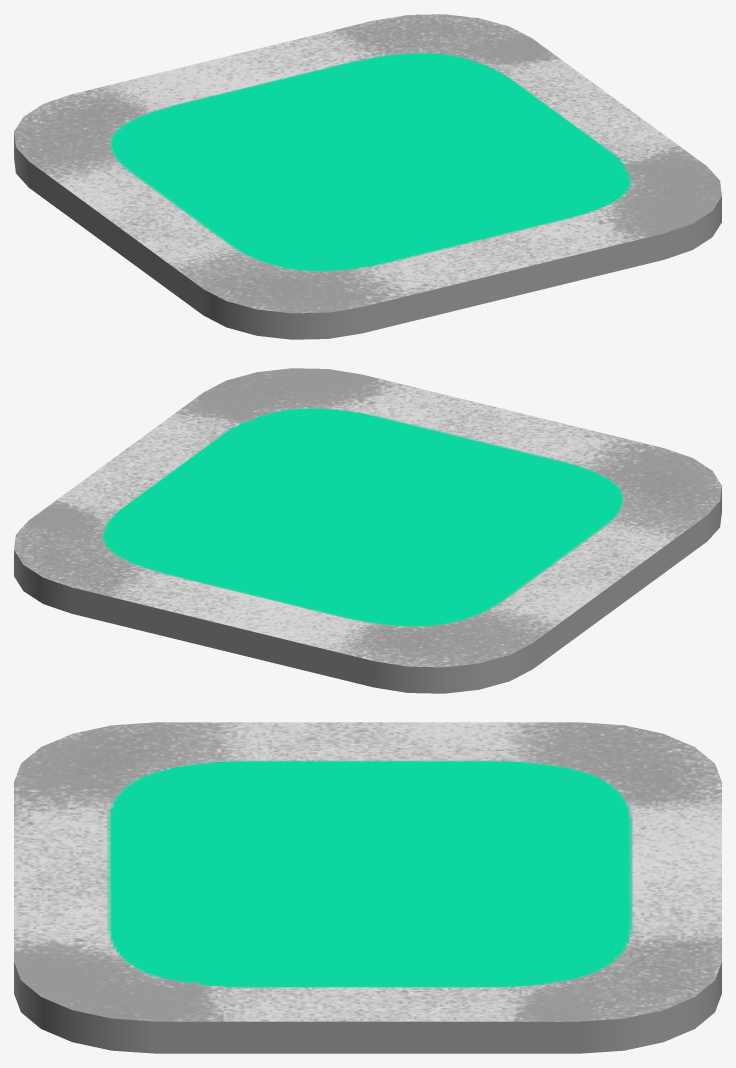
File: block6.obj
3 renders of one model, top to bottom at view 1: azimuth 30°, elevation 25°; view 2: azimuth 150°, elevation 25°; view 3: azimuth 270°, elevation 25°, orthographic. The views are drawn at different scales.
Visible parts, largest first — view 1: 立方体.001; view 2: 立方体.001; view 3: 立方体.001.
Boxes of the visible parts, left/top/right/bottom form: 立方体.001: left=14, top=14, right=721, bottom=339; 立方体.001: left=14, top=368, right=721, bottom=693; 立方体.001: left=14, top=722, right=721, bottom=1053.
Bounding box in the file's own units: 7.63 × 0.3814 × 7.63.
